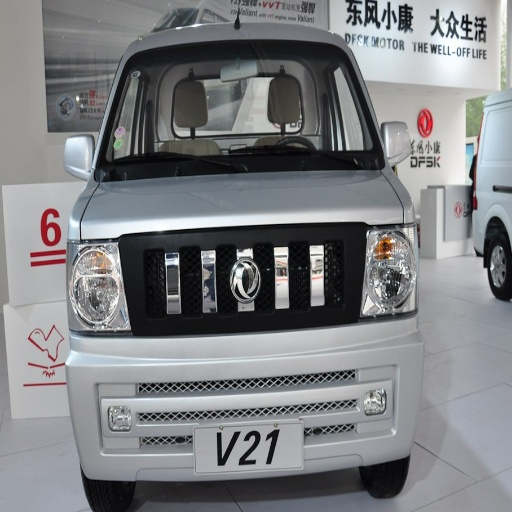front_bumper: (71, 231, 416, 476), (289, 224, 372, 301)
front_right_light: (62, 242, 132, 334)
hood: (84, 177, 222, 237), (278, 170, 404, 223)
